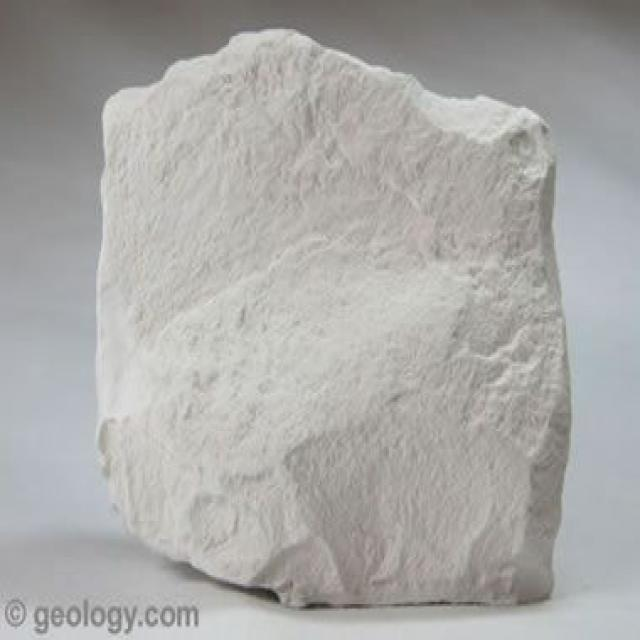Sedimentary: (101, 54, 579, 604)
